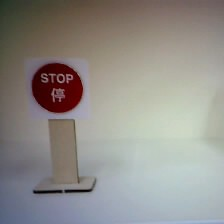stop: (21, 55, 91, 120)
